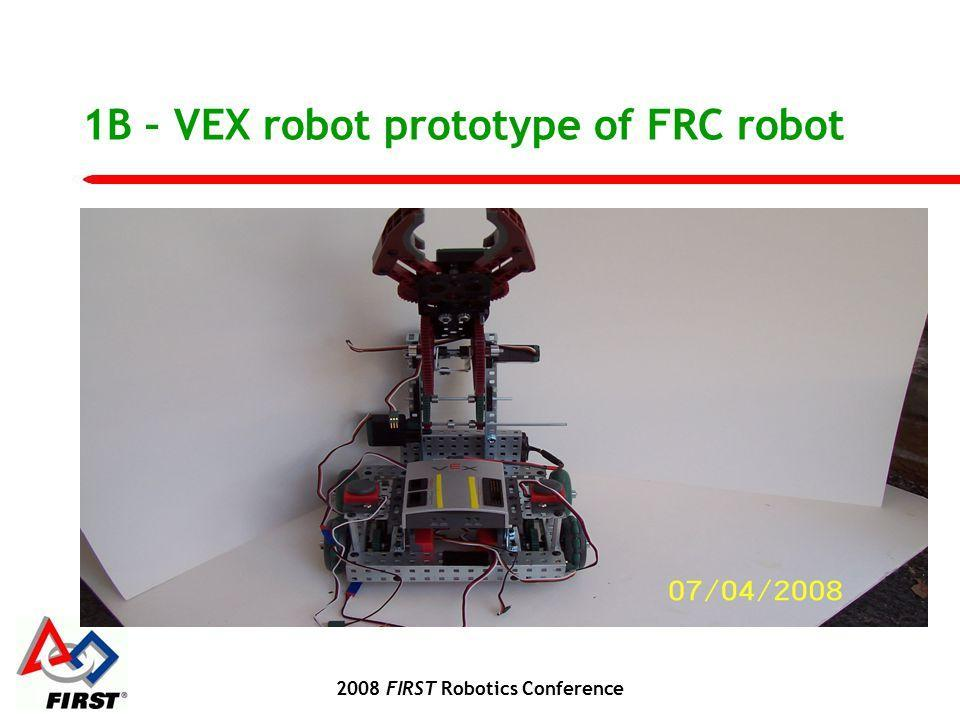robot: (297, 208, 606, 596)
